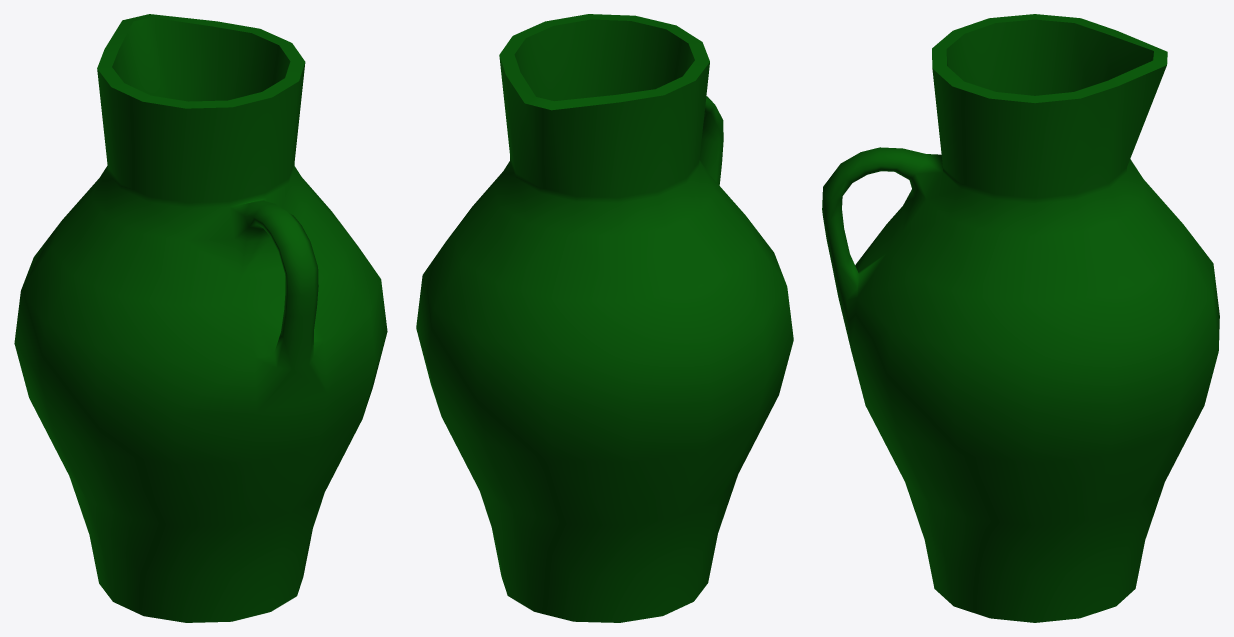
The model's file is jug04.FBX.
3 views of the same model, side by side, from view 1: azimuth 30°, elevation 25°; view 2: azimuth 150°, elevation 25°; view 3: azimuth 270°, elevation 25° (orthographic).
Parts seen in each view (by area): view 1: SM_jug04_0; view 2: SM_jug04_0; view 3: SM_jug04_0.
Boxes of the visible parts, x1,y1,x2,y2 form: SM_jug04_0: (14,14,387,622); SM_jug04_0: (416,14,793,622); SM_jug04_0: (822,14,1219,622).
Bounding box in the file's own units: 31.17 × 32.79 × 47.62.
